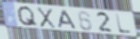2: (96, 11, 114, 34)
6: (77, 10, 93, 31)
A: (58, 9, 78, 30)
L: (115, 13, 133, 35)
Q: (16, 6, 40, 28)
X: (36, 6, 57, 30)
